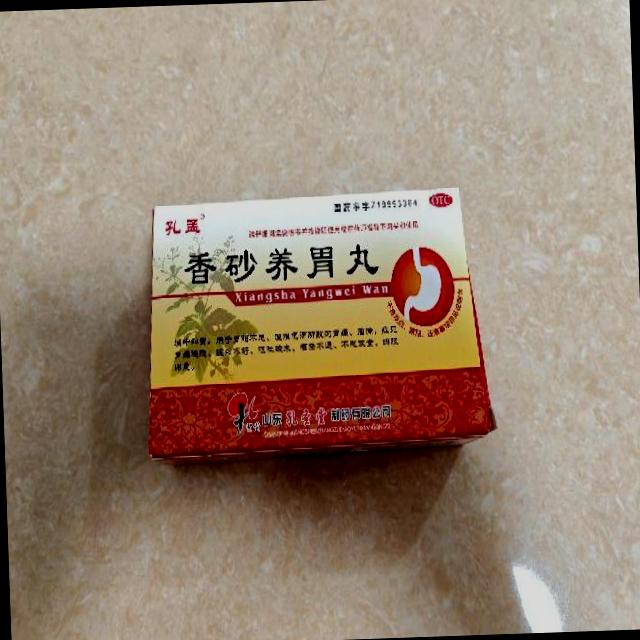box: (140, 184, 496, 462)
